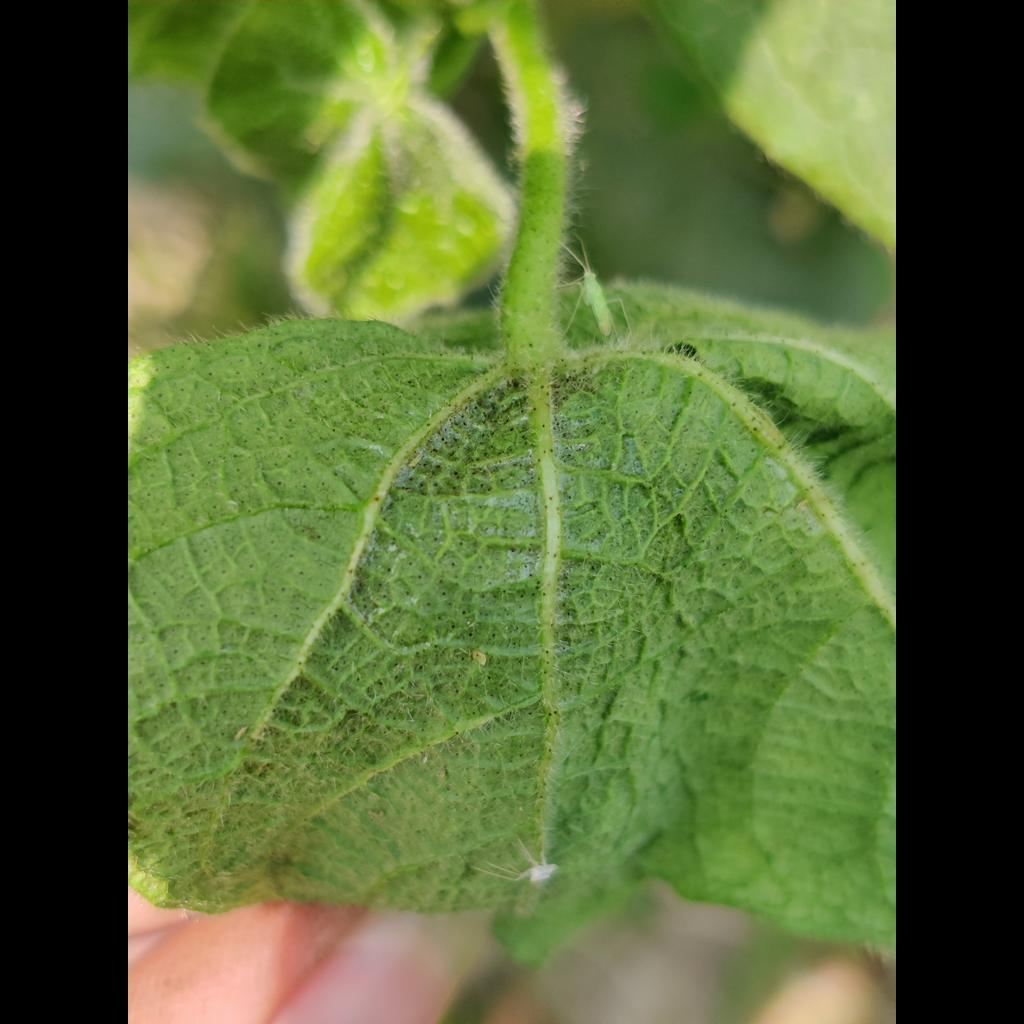adult: (526, 863, 559, 882)
nymph: (471, 651, 487, 665)
